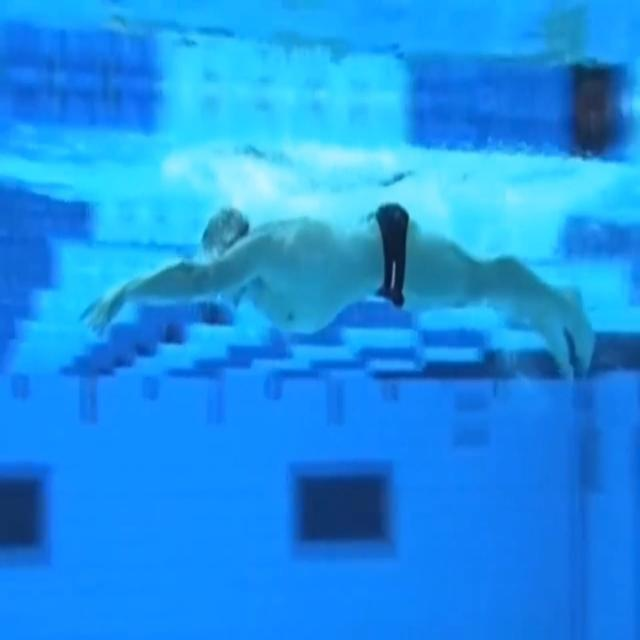Swimming: (83, 206, 595, 388)
